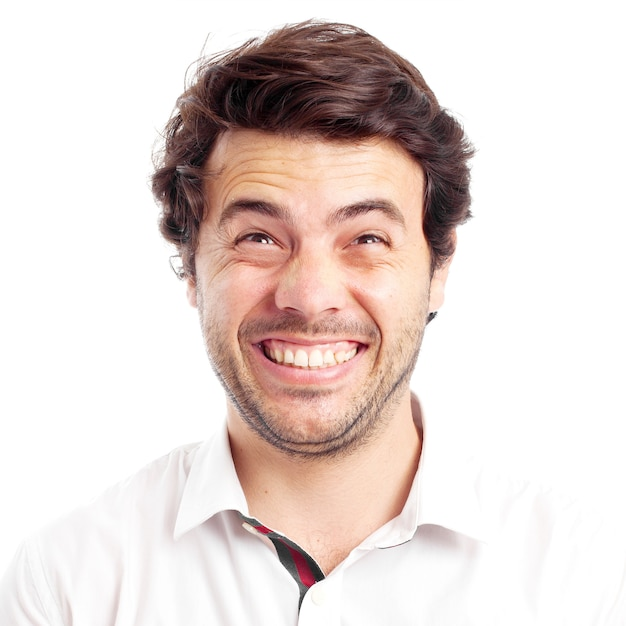young: (152, 25, 484, 435)
